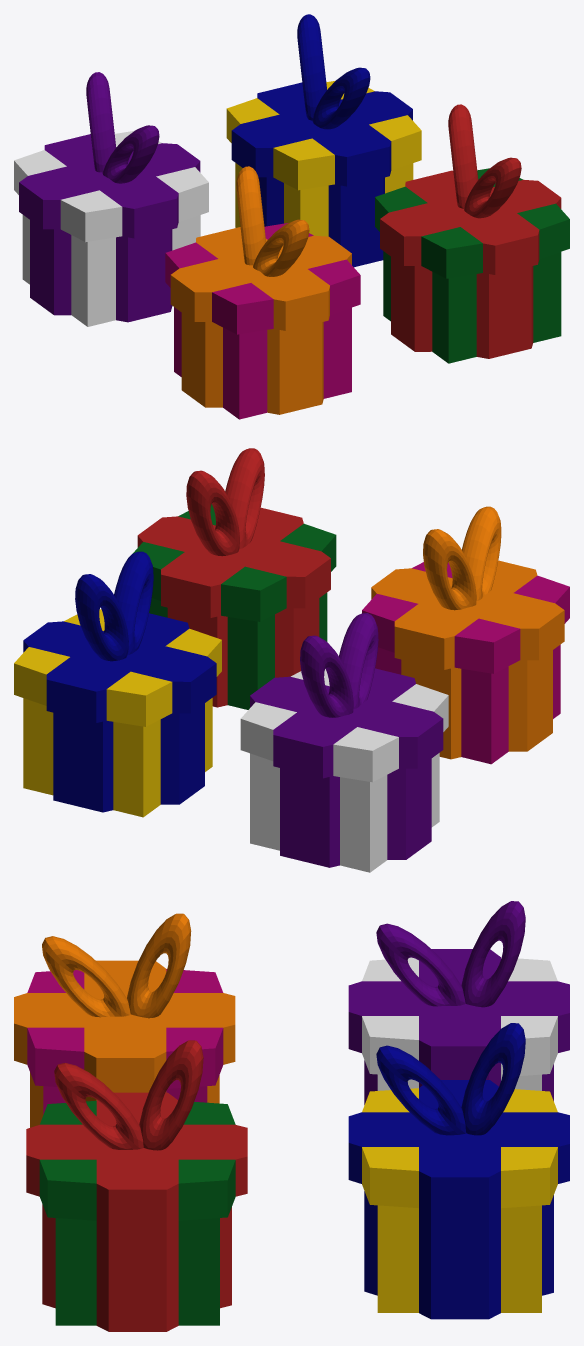
File: cadeaux.fbx
The picture shows the model from 3 angles, top to bottom: view 1: azimuth 30°, elevation 25°; view 2: azimuth 150°, elevation 25°; view 3: azimuth 270°, elevation 25°; orthographic projection. The views are drawn at different scales.
Visible parts, largest first — view 1: pCube6, pCube5, pCube2, pCube7; view 2: pCube7, pCube2, pCube5, pCube6; view 3: pCube7, pCube6, pCube5, pCube2.
Boxes of the visible parts, x1,y1,x2,y2 form: pCube6: (375,104,569,363); pCube5: (165,166,360,419); pCube2: (14,72,208,326); pCube7: (226,14,421,267); pCube7: (14,551,221,817); pCube2: (240,613,448,872); pCube5: (362,506,569,764); pCube6: (132,448,336,709); pCube7: (348,1023,569,1319); pCube6: (26,1040,247,1331); pCube5: (14,913,235,1127); pCube2: (348,901,569,1104).
Size of the model in its own units: 12.24 by 6.12 by 11.95.
